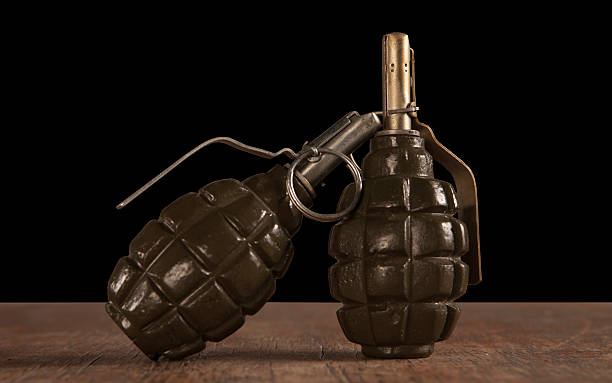e1: (95, 139, 357, 351), (330, 40, 495, 370)
